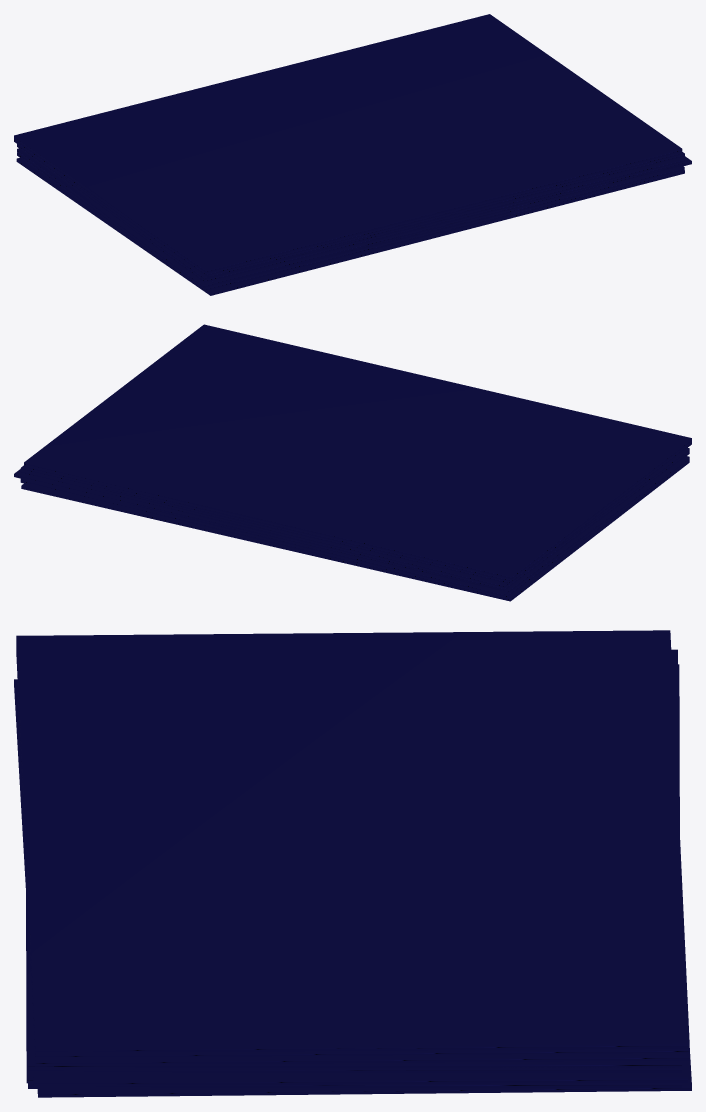
Rendered from card_deck.glb.
3 views of the same model, one above another, from view 1: azimuth 30°, elevation 25°; view 2: azimuth 150°, elevation 25°; view 3: azimuth 270°, elevation 25° (orthographic). The views are drawn at different scales.
Parts seen in each view (by area): view 1: Card1.008, Card1.001, Card1, Card1.002, Card1.004, Card1.003, Card1.007, Card1.005, Card1.006; view 2: Card1.008, Card1.001, Card1, Card1.002, Card1.007, Card1.003, Card1.004, Card1.006, Card1.005; view 3: Card1.008, Card1.006, Card1.005, Card1.004, Card1, Card1.003, Card1.007, Card1.002.
Boxes of the visible parts, left/top/right/bottom form: Card1.008: left=14, top=14, right=682, bottom=273; Card1.001: left=17, top=148, right=684, bottom=287; Card1: left=16, top=158, right=684, bottom=295; Card1.002: left=17, top=152, right=684, bottom=291; Card1.004: left=17, top=144, right=684, bottom=279; Card1.003: left=17, top=144, right=684, bottom=282; Card1.007: left=14, top=139, right=682, bottom=276; Card1.005: left=207, top=152, right=684, bottom=277; Card1.006: left=211, top=156, right=691, bottom=284; Card1.008: left=24, top=324, right=691, bottom=579; Card1.001: left=21, top=456, right=689, bottom=596; Card1: left=21, top=465, right=685, bottom=601; Card1.002: left=20, top=460, right=689, bottom=599; Card1.007: left=24, top=441, right=691, bottom=582; Card1.003: left=20, top=451, right=689, bottom=590; Card1.004: left=20, top=448, right=689, bottom=587; Card1.006: left=14, top=469, right=501, bottom=590; Card1.005: left=21, top=465, right=511, bottom=584; Card1.008: left=16, top=630, right=689, bottom=1053; Card1.006: left=22, top=778, right=687, bottom=1086; Card1.005: left=16, top=649, right=689, bottom=1066; Card1.004: left=26, top=649, right=681, bottom=1069; Card1: left=14, top=679, right=691, bottom=1097; Card1.003: left=25, top=857, right=681, bottom=1073; Card1.007: left=16, top=645, right=689, bottom=1058; Card1.002: left=28, top=1082, right=681, bottom=1088.
Size of the model in its own units: 3.08 by 0.1554 by 2.07.
